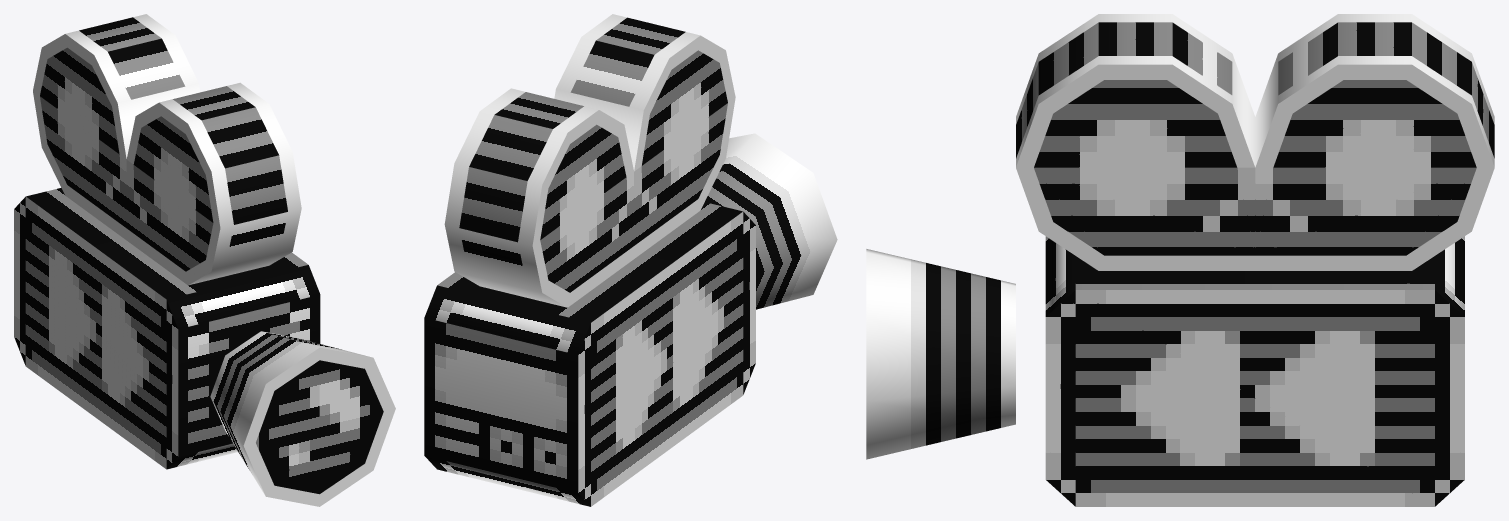
The model's file is Gizmo_Camera.fbx.
3 renders of one model, left to right at view 1: azimuth 30°, elevation 25°; view 2: azimuth 150°, elevation 25°; view 3: azimuth 270°, elevation 25°, orthographic. The views are drawn at different scales.
Visible parts, largest first — view 1: Gizmo_Camera; view 2: Gizmo_Camera; view 3: Gizmo_Camera.
Part boxes in pixels (x1,y1,x2,y2): Gizmo_Camera: [14, 14, 395, 506]; Gizmo_Camera: [424, 14, 837, 506]; Gizmo_Camera: [866, 14, 1494, 506].
Bounding box in the file's own units: 3.75 × 7.8 × 10.5.
